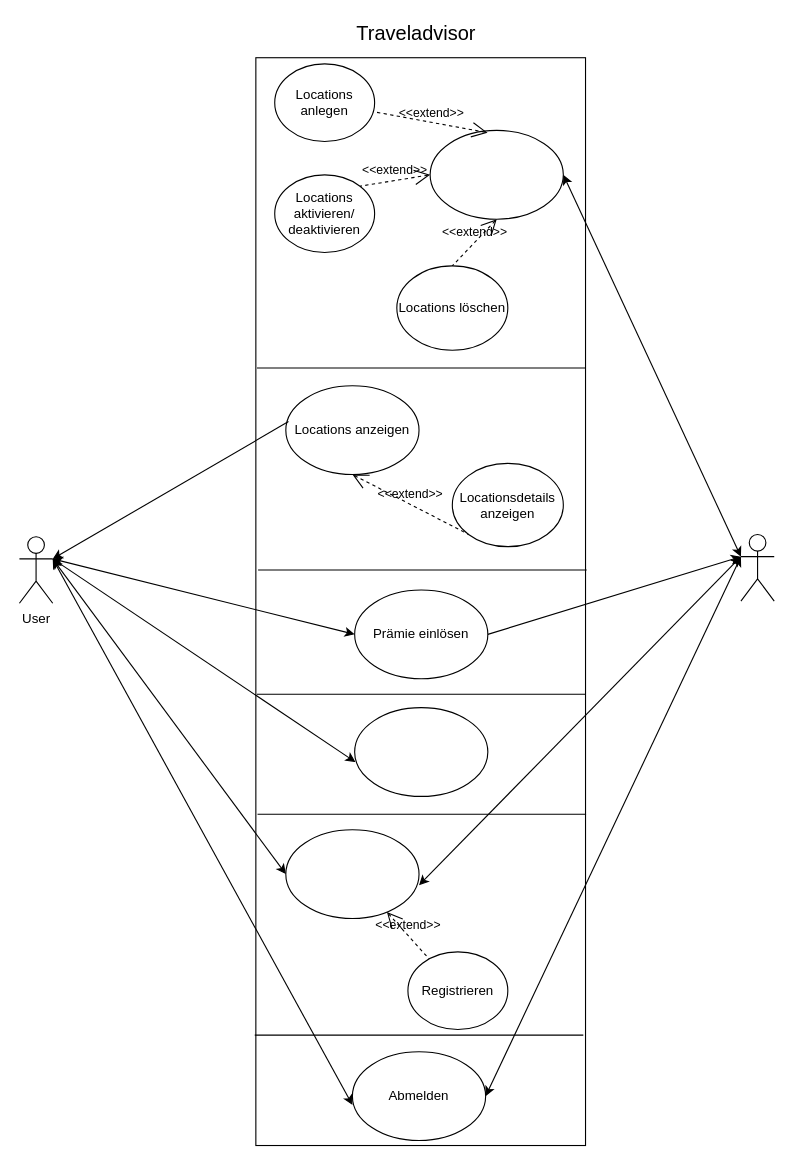
Image size: 801x1164. Some labels were removed from this diagram. The shapes that lost their labels are listed below. From the top down, each one's centre as x and y in pixels, then its label:
At point (496, 174): "Locations verwalten".
At point (757, 567): "Anbieter".
At point (421, 751): "Prämie sanmeln".
At point (352, 874): "Anmelden".
